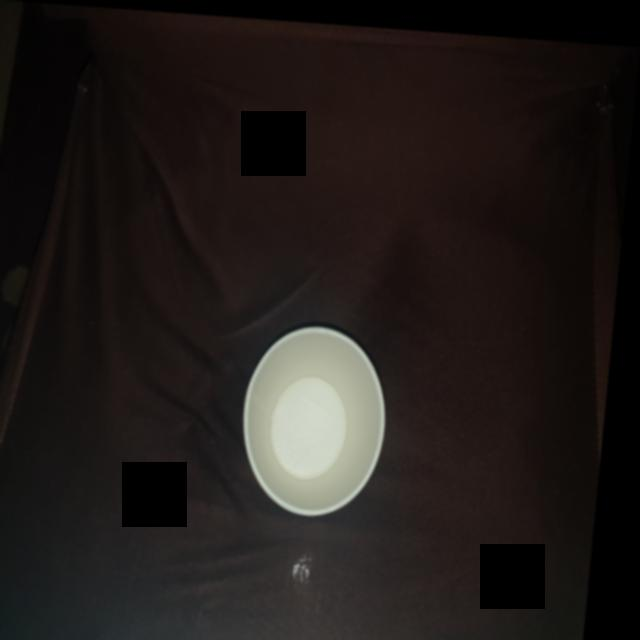cups: (240, 310, 411, 530)
